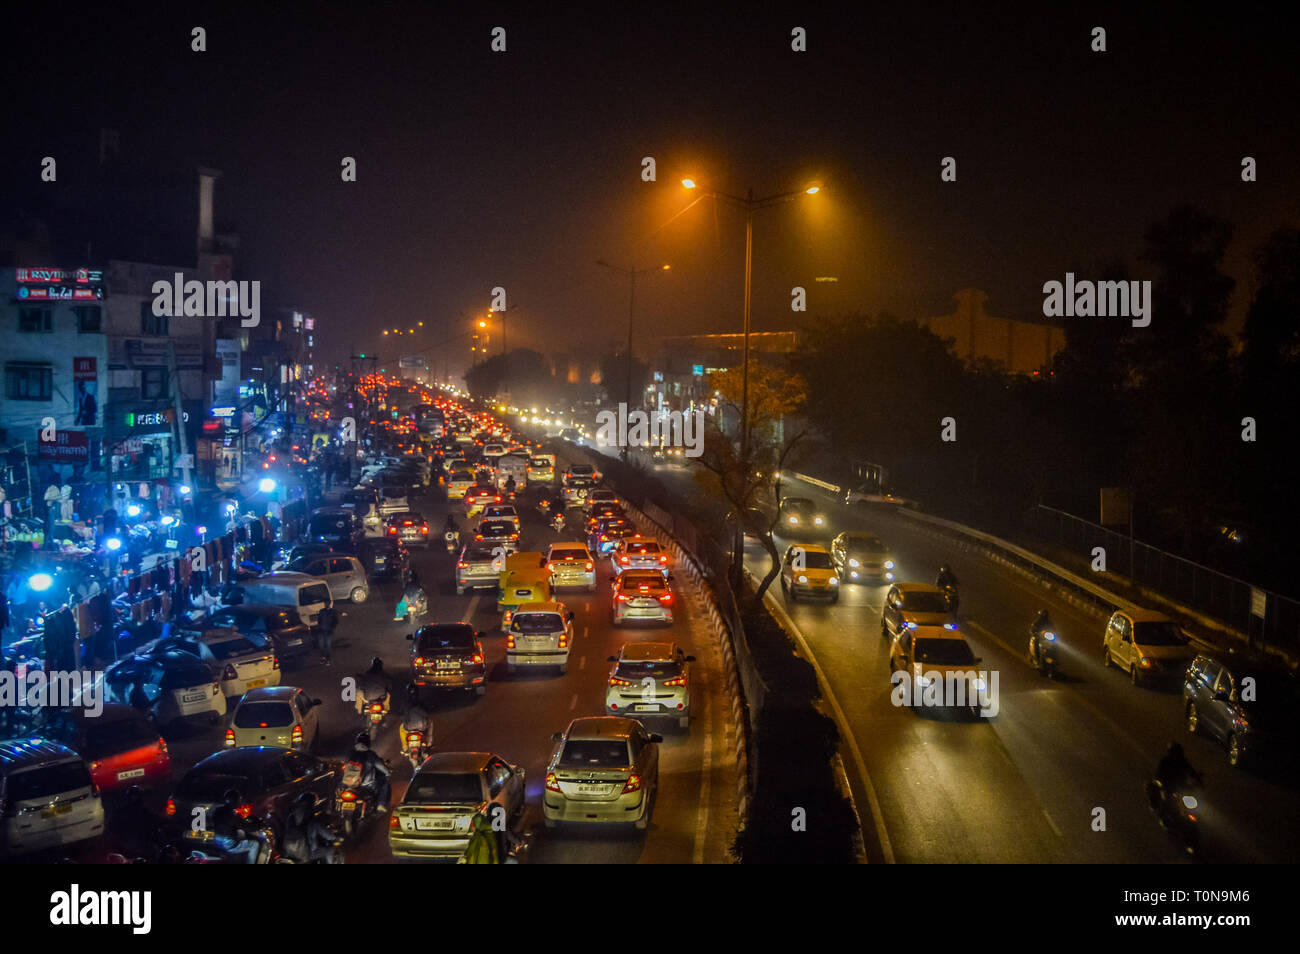bike: (1147, 747, 1201, 852), (338, 744, 385, 834), (282, 799, 344, 864), (361, 656, 388, 741), (401, 690, 426, 766), (1033, 607, 1060, 677), (402, 574, 426, 627), (442, 515, 460, 554), (538, 485, 551, 517), (553, 504, 566, 532)
car: (1186, 653, 1300, 772), (394, 754, 524, 856), (543, 716, 657, 832), (892, 622, 980, 717), (230, 747, 336, 820), (605, 642, 690, 726), (1103, 608, 1188, 686), (235, 693, 319, 760), (411, 625, 485, 696), (509, 609, 571, 671), (245, 604, 310, 662), (883, 580, 951, 634), (295, 554, 368, 603), (248, 580, 328, 623), (833, 533, 893, 589), (786, 541, 839, 605), (228, 630, 280, 695), (614, 576, 672, 625), (848, 476, 915, 512), (613, 538, 667, 578), (726, 505, 773, 550), (547, 542, 592, 588), (311, 509, 362, 548), (457, 542, 504, 584), (388, 512, 431, 554), (781, 497, 824, 538), (593, 519, 636, 556), (474, 520, 522, 550), (365, 539, 401, 578), (498, 461, 532, 500), (480, 505, 523, 531), (563, 478, 594, 510), (466, 486, 500, 516), (586, 488, 620, 514), (563, 465, 604, 487), (527, 456, 554, 483), (381, 486, 406, 512), (446, 472, 472, 497), (444, 451, 466, 468), (452, 425, 470, 445), (475, 431, 496, 448), (483, 444, 503, 458)
rickshaw: (504, 572, 554, 632)
